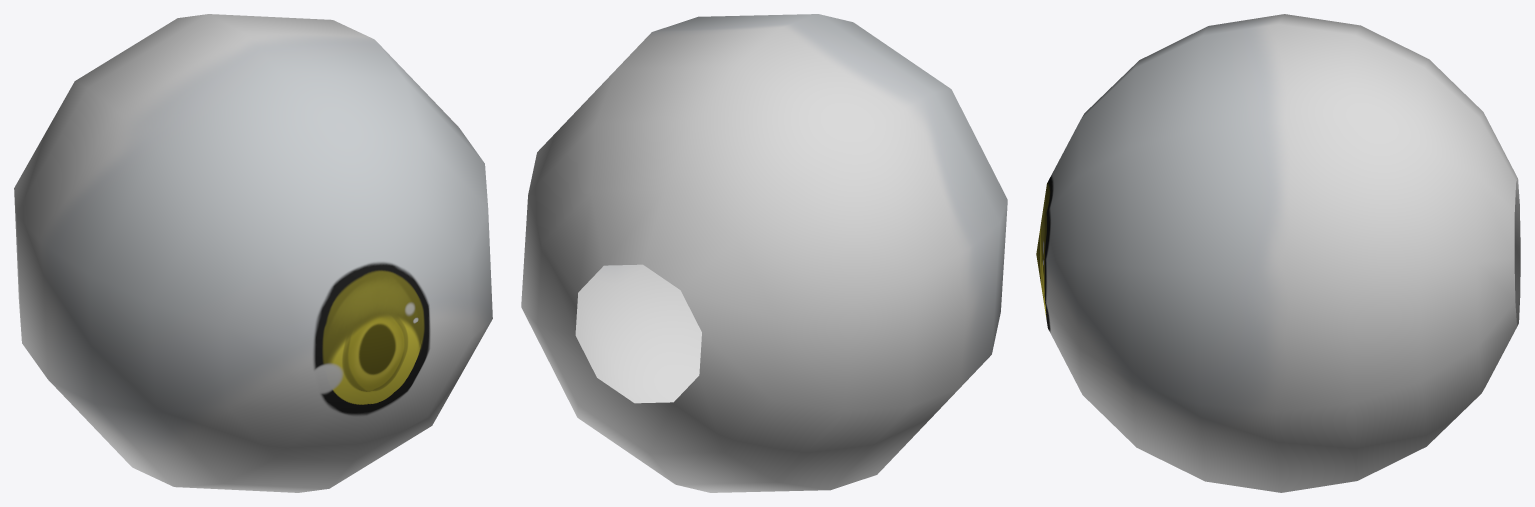
The model's file is eye2.fbx.
3 views of the same model, side by side, from view 1: azimuth 30°, elevation 25°; view 2: azimuth 150°, elevation 25°; view 3: azimuth 270°, elevation 25° (orthographic).
Parts seen in each view (by area): view 1: eyeL2; view 2: eyeL2; view 3: eyeL2.
Boxes of the visible parts, bbox=[...] form: eyeL2: bbox=[14, 14, 492, 492]; eyeL2: bbox=[521, 14, 1007, 492]; eyeL2: bbox=[1036, 14, 1520, 492].
Size of the model in its own units: 0.2542 by 0.2628 by 0.2582.
